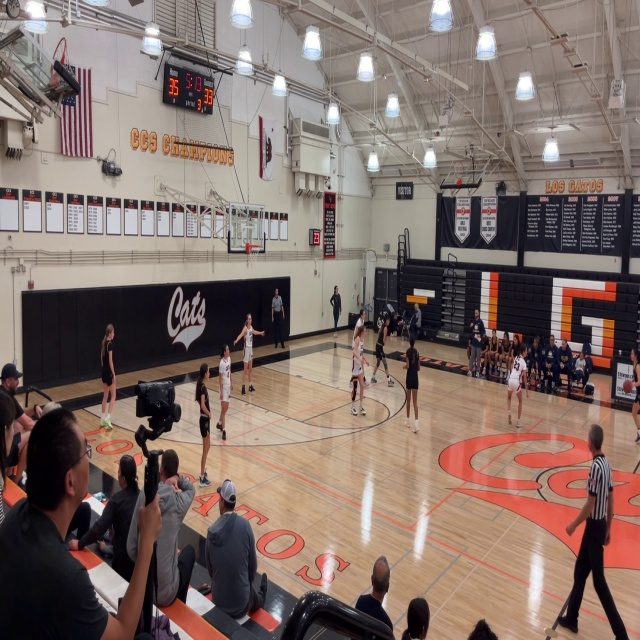Basketball: (622, 380, 632, 393)
